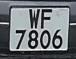0: (39, 29, 53, 51)
6: (51, 27, 64, 51)
7: (13, 28, 28, 51)
8: (27, 29, 40, 50)
F: (40, 7, 54, 31)
W: (27, 8, 41, 31)
